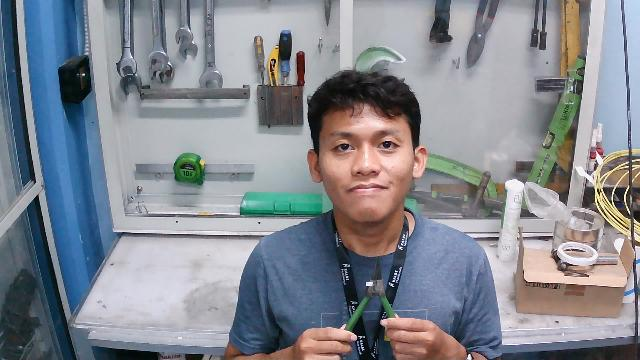tang_cucut_lancip_2: (329, 253, 415, 350)
